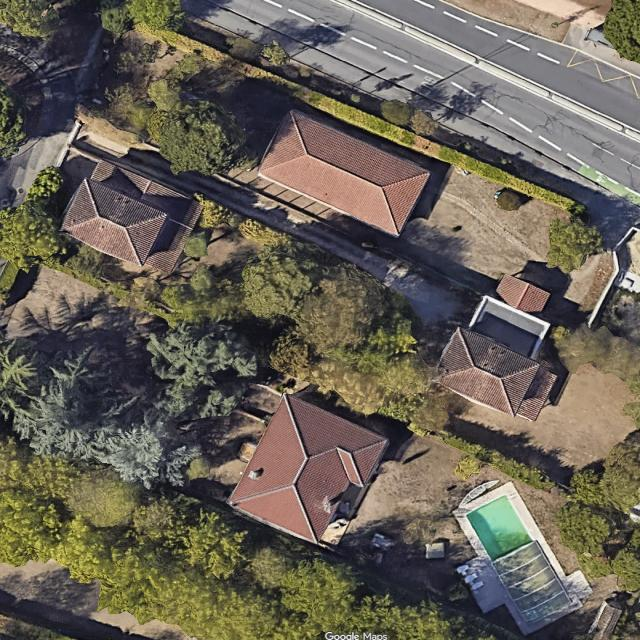maison: (226, 388, 391, 557), (256, 106, 431, 239), (55, 152, 204, 281), (431, 325, 560, 429), (492, 272, 551, 318)
